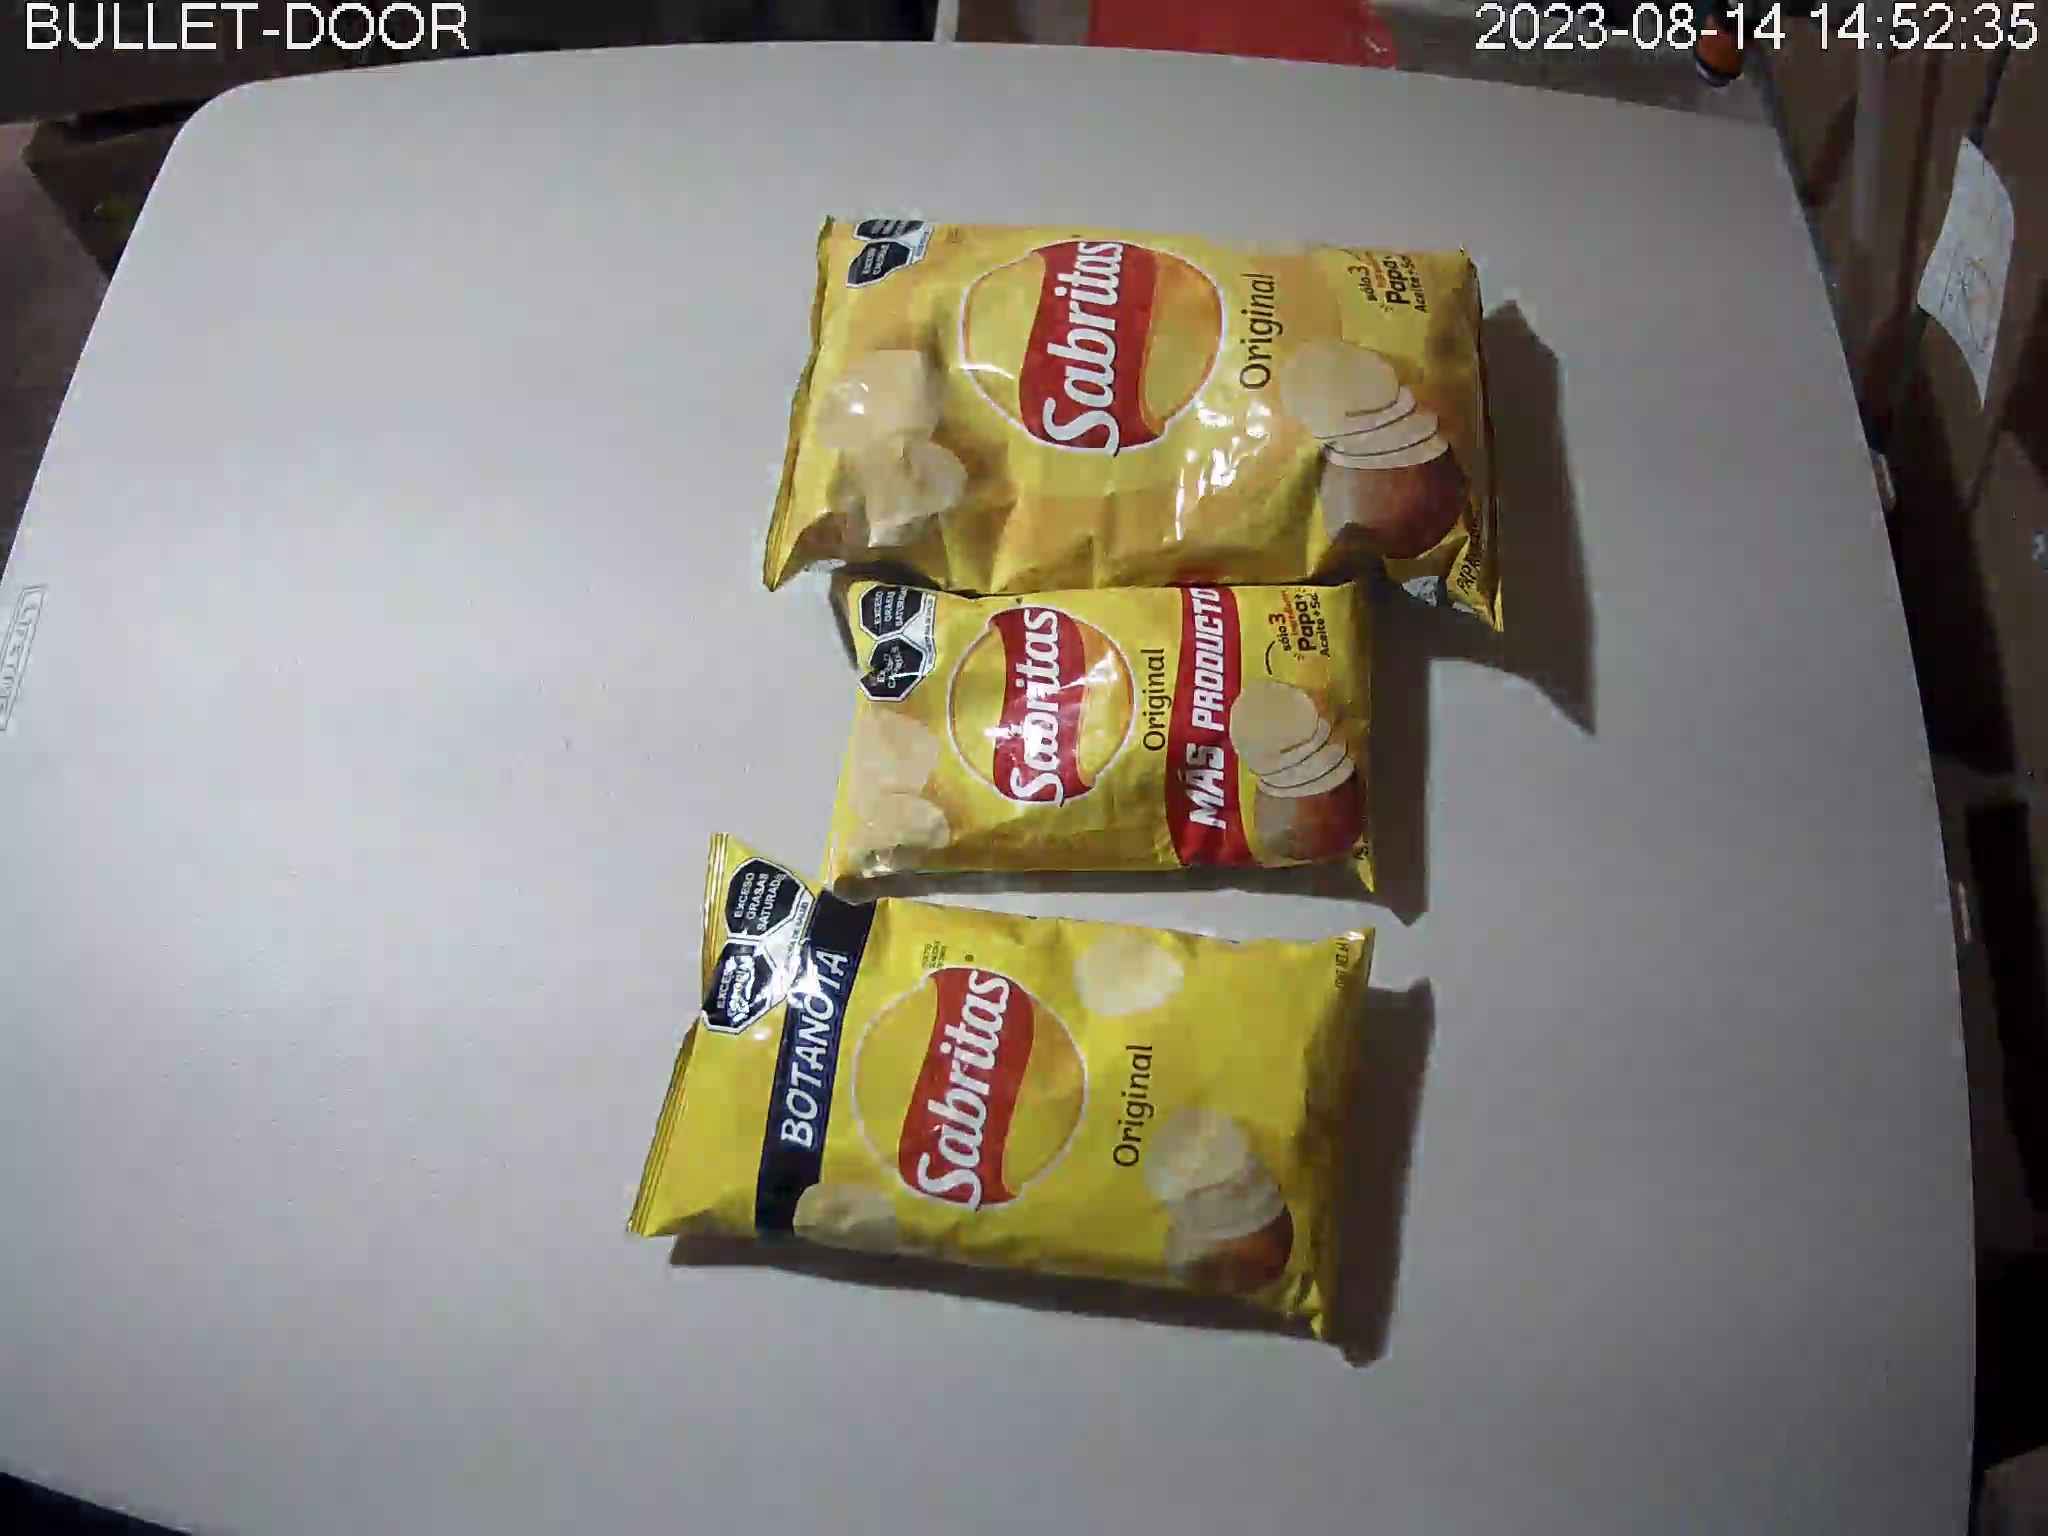Sabritas_160_F: (763, 211, 1509, 641)
Sabritas_45_F: (816, 565, 1384, 912)
Sabritas_64_F: (624, 828, 1379, 1342)
